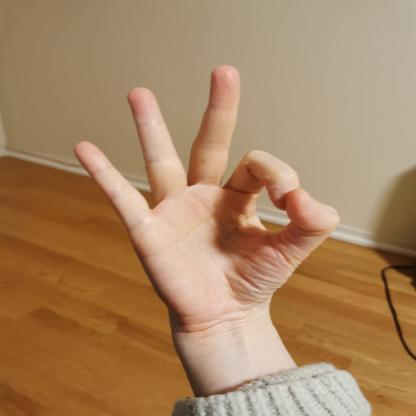nine: (69, 62, 348, 332)
